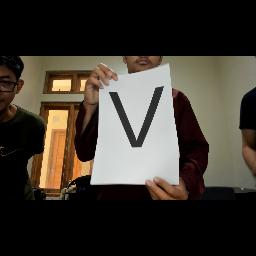v: (102, 84, 170, 158)
